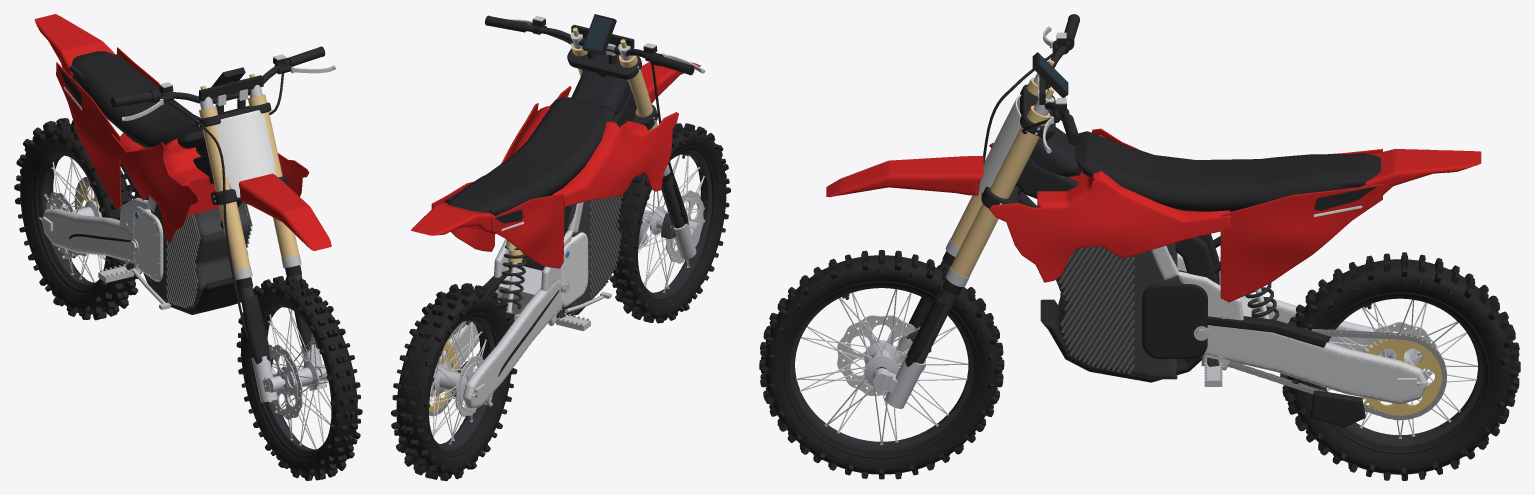
Rendered from Varg.fbx.
3 views of the same model, side by side, from view 1: azimuth 30°, elevation 25°; view 2: azimuth 150°, elevation 25°; view 3: azimuth 270°, elevation 25° (orthographic). The views are drawn at different scales.
Visible parts, largest first — view 1: Varg_FrontWheel_rubber, Varg_RearWheel_rubber, Varg_Body_seat, Varg_Body_red3, Varg_Body_red, Varg_Steering_black, Varg_Body_battery, Varg_Steering_gold, Varg_Steering_plate, Varg_Swingarm_alu, Varg_Steering_red, Varg_Body_battrib (+18 smaller); view 2: Varg_RearWheel_rubber, Varg_Body_seat, Varg_FrontWheel_rubber, Varg_Swingarm_alu, Varg_Body_red3, Varg_Body_red, Varg_Body_red2, Varg_Body_battrib, Varg_Body_battery, Varg_Steering_frame, Varg_Steering_black, Varg_FrontWheel_rim (+21 smaller); view 3: Varg_RearWheel_rubber, Varg_FrontWheel_rubber, Varg_Body_seat, Varg_Body_red2, Varg_Body_red, Varg_Swingarm_alu, Varg_Body_battery, Varg_Body_black, Varg_Body_battrib, Varg_Steering_red, Varg_Steering_gold, Varg_FrontWheel_spoke (+16 smaller).
Part boxes in pixels (box(x1,y1,x2,y2)): Varg_FrontWheel_rubber: box(236, 276, 362, 480); Varg_RearWheel_rubber: box(14, 118, 141, 320); Varg_Body_seat: box(72, 51, 204, 148); Varg_Body_red3: box(34, 14, 120, 208); Varg_Body_red: box(110, 134, 309, 243); Varg_Steering_black: box(110, 46, 325, 364); Varg_Body_battery: box(150, 202, 250, 309); Varg_Steering_gold: box(199, 74, 299, 270); Varg_Steering_plate: box(215, 110, 276, 197); Varg_Swingarm_alu: box(42, 198, 134, 261); Varg_Steering_red: box(238, 173, 331, 250); Varg_Body_battrib: box(165, 203, 252, 308); Varg_RearWheel_rubber: box(391, 283, 517, 480); Varg_Body_seat: box(447, 97, 614, 215); Varg_FrontWheel_rubber: box(609, 123, 730, 323); Varg_Swingarm_alu: box(430, 266, 562, 408); Varg_Body_red3: box(411, 193, 564, 268); Varg_Body_red: box(501, 86, 678, 206); Varg_Body_red2: box(431, 106, 648, 251); Varg_Body_battrib: box(589, 195, 622, 299); Varg_Body_battery: box(562, 196, 620, 316); Varg_Steering_frame: box(524, 24, 657, 129); Varg_Steering_black: box(485, 14, 694, 224); Varg_FrontWheel_rim: box(642, 150, 712, 298); Varg_RearWheel_rubber: box(1280, 252, 1520, 480); Varg_FrontWheel_rubber: box(759, 250, 1004, 479); Varg_Body_seat: box(1075, 131, 1380, 211); Varg_Body_red2: box(1037, 135, 1382, 302); Varg_Body_red: box(989, 128, 1230, 282); Varg_Swingarm_alu: box(1204, 293, 1427, 404); Varg_Body_battery: box(1056, 243, 1177, 379); Varg_Body_black: box(1040, 186, 1377, 382); Varg_Body_battrib: box(1058, 246, 1134, 373); Varg_Steering_red: box(826, 156, 983, 197); Varg_Steering_gold: box(950, 60, 1054, 277); Varg_FrontWheel_spoke: box(796, 289, 968, 444).
Bounding box in the file's own units: 0.8302 × 1.32 × 2.17.
